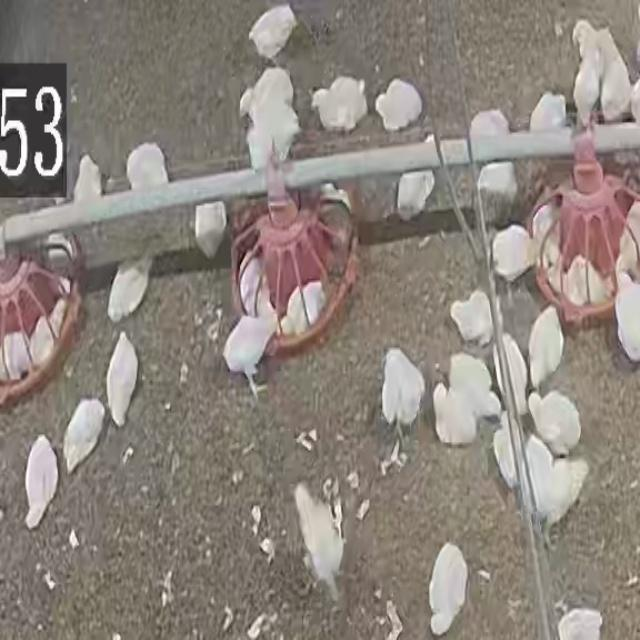chicken: (292, 481, 344, 601), (238, 68, 299, 169), (526, 435, 586, 528), (225, 315, 277, 397), (448, 352, 501, 431), (592, 26, 634, 124), (428, 542, 470, 637), (486, 402, 533, 486), (526, 389, 582, 458), (380, 348, 426, 431), (548, 253, 611, 309), (310, 75, 368, 133), (62, 399, 106, 475), (24, 438, 60, 528), (106, 254, 152, 323), (105, 333, 139, 426), (238, 247, 277, 327), (527, 306, 565, 388), (491, 223, 534, 291), (31, 280, 64, 368), (476, 162, 518, 231), (432, 382, 476, 447), (448, 290, 495, 348), (250, 1, 298, 57), (39, 213, 73, 291), (373, 79, 423, 132), (612, 272, 640, 366), (281, 281, 325, 337), (316, 174, 351, 244), (394, 168, 436, 223), (572, 51, 600, 128), (125, 142, 169, 190), (530, 202, 556, 276), (194, 202, 228, 258), (619, 200, 640, 284), (1, 331, 34, 382), (72, 154, 104, 205), (528, 93, 568, 131), (469, 109, 510, 139)
